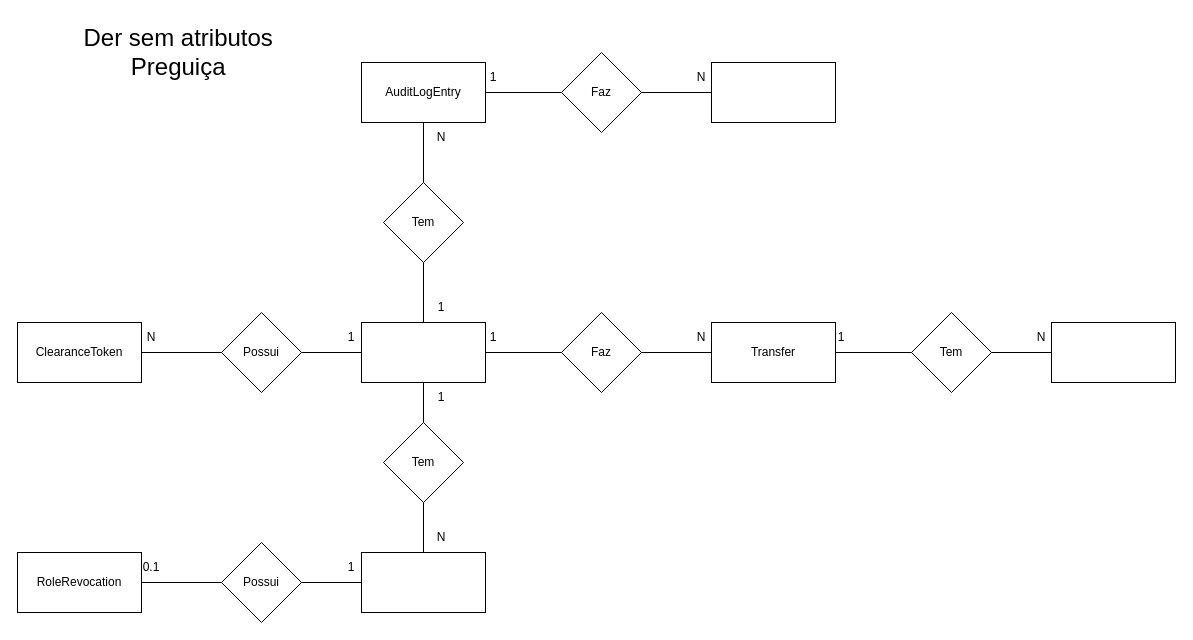
This 1193x640 diagram has some shape labels left out. The box of each missing label's shape, as (x1, y1, x2, y2) in pixels:
AuditVerification: (710, 62, 836, 122)
EncryptedFileKey: (1050, 322, 1176, 382)
RoleToken: (360, 552, 486, 612)
User: (360, 322, 486, 382)
